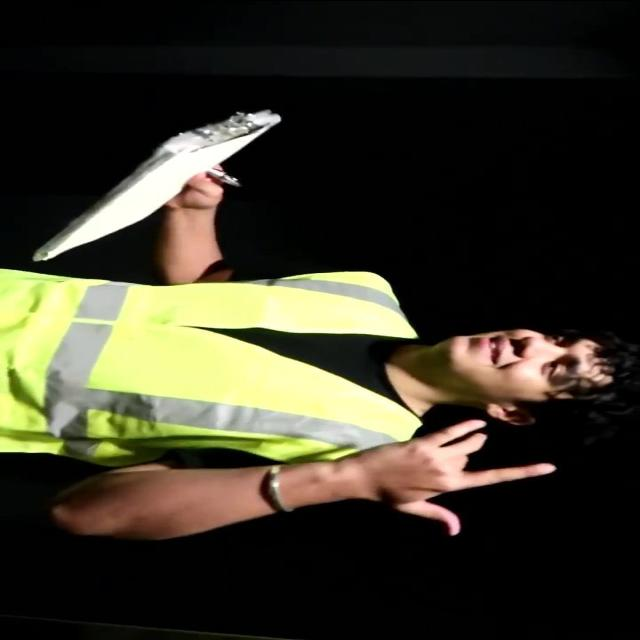jacket: (5, 262, 437, 476)
